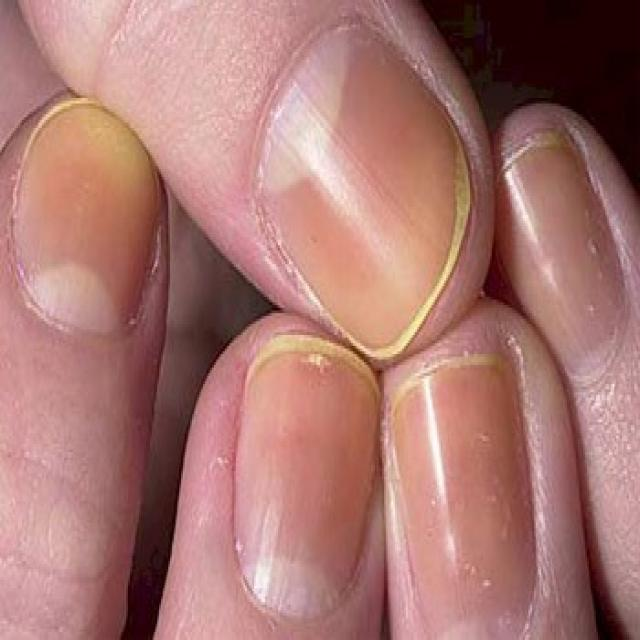diabetes: (257, 24, 463, 354), (390, 359, 535, 637), (232, 352, 378, 621), (14, 104, 157, 339), (495, 141, 627, 374)
